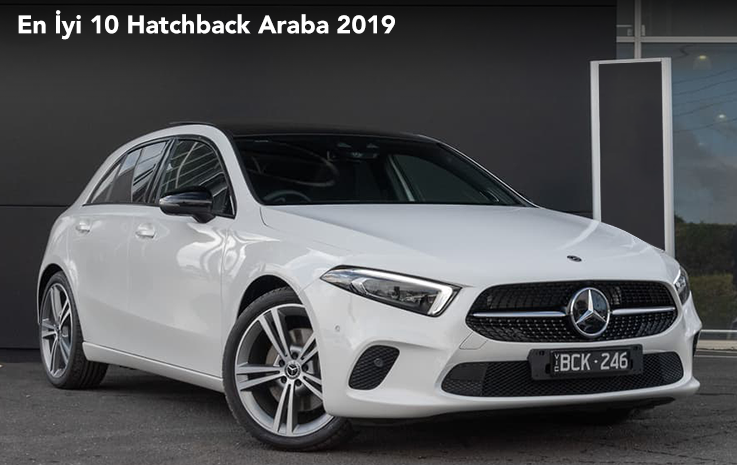car: (55, 115, 701, 421)
